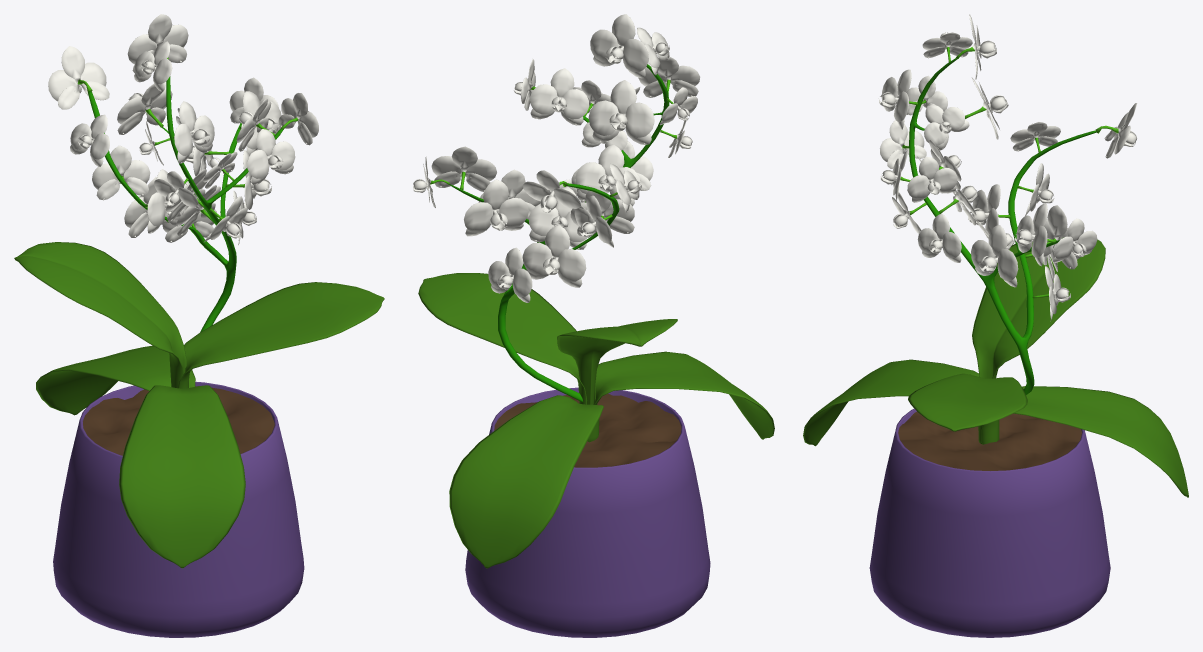
Rendered from plant_orchid.glb.
3 views of the same model, side by side, from view 1: azimuth 30°, elevation 25°; view 2: azimuth 150°, elevation 25°; view 3: azimuth 270°, elevation 25° (orthographic). The views are drawn at different scales.
Parts seen in each view (by area): view 1: Pot_Cylinder, Leaf.001_Plane.001, Leaf.002_Plane.002, Leaf.003_Plane.003, Leaf_Plane, Pot.001_Cylinder.003, stalk_Cylinder.002, Flower.024_Plane.029, Flower.022_Plane.027, Flower.012_Plane.017, Flower.003_Plane.008, Flower.008_Plane.013 (+16 smaller); view 2: Pot_Cylinder, Leaf_Plane, Leaf.002_Plane.002, Pot.001_Cylinder.003, Leaf.001_Plane.001, Leaf.003_Plane.003, Flower.011_Plane.016, stalk_Cylinder.002, Flower.020_Plane.025, Flower.016_Plane.021, Flower.012_Plane.017, Flower.006_Plane.011 (+15 smaller); view 3: Pot_Cylinder, Leaf_Plane, Pot.001_Cylinder.003, Leaf.003_Plane.003, Leaf.002_Plane.002, Leaf.001_Plane.001, stalk_Cylinder.002, Flower.015_Plane.020, Flower.005_Plane.010, Flower_Plane.005, Flower.018_Plane.023, Flower.009_Plane.014 (+15 smaller).
Boxes of the visible parts, box(x1,y1,x2,y2) form: Pot_Cylinder: box(53, 381, 304, 637); Leaf.001_Plane.001: box(119, 385, 245, 568); Leaf.002_Plane.002: box(178, 282, 384, 388); Leaf.003_Plane.003: box(14, 242, 186, 388); Leaf_Plane: box(36, 345, 195, 415); Pot.001_Cylinder.003: box(83, 386, 274, 455); stalk_Cylinder.002: box(88, 76, 282, 332); Flower.024_Plane.029: box(48, 46, 109, 109); Flower.022_Plane.027: box(92, 145, 150, 200); Flower.012_Plane.017: box(127, 14, 188, 73); Flower.003_Plane.008: box(247, 129, 295, 185); Flower.008_Plane.013: box(173, 101, 214, 163); Pot_Cylinder: box(465, 387, 710, 637); Leaf_Plane: box(449, 395, 603, 568); Leaf.002_Plane.002: box(418, 273, 596, 404); Pot.001_Cylinder.003: box(494, 393, 681, 467); Leaf.001_Plane.001: box(594, 351, 774, 439); Leaf.003_Plane.003: box(557, 319, 677, 404); Flower.011_Plane.016: box(588, 80, 654, 144); stalk_Cylinder.002: box(449, 64, 669, 402); Flower.020_Plane.025: box(522, 225, 586, 287); Flower.016_Plane.021: box(464, 179, 528, 236); Flower.012_Plane.017: box(590, 14, 648, 78); Flower.006_Plane.011: box(530, 68, 589, 125); Pot_Cylinder: box(869, 408, 1110, 637); Leaf_Plane: box(981, 386, 1188, 497); Pot.001_Cylinder.003: box(898, 411, 1081, 470); Leaf.003_Plane.003: box(972, 239, 1105, 378); Leaf.002_Plane.002: box(908, 373, 1027, 431); Leaf.001_Plane.001: box(803, 359, 982, 446); stalk_Cylinder.002: box(909, 58, 1096, 394); Flower.015_Plane.020: box(971, 225, 1018, 287); Flower.005_Plane.010: box(907, 156, 957, 202); Flower_Plane.005: box(917, 213, 961, 262); Flower.018_Plane.023: box(1014, 203, 1055, 266); Flower.009_Plane.014: box(924, 105, 969, 150).
Bounding box in the file's own units: 0.311 × 0.574 × 0.353.
